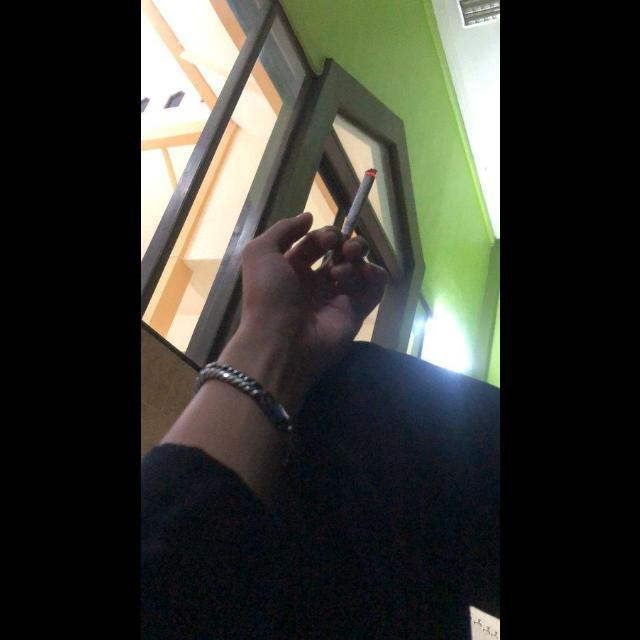rokok: (327, 165, 383, 247)
